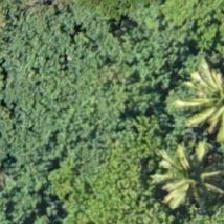coconut_tree: (149, 131, 223, 221)
